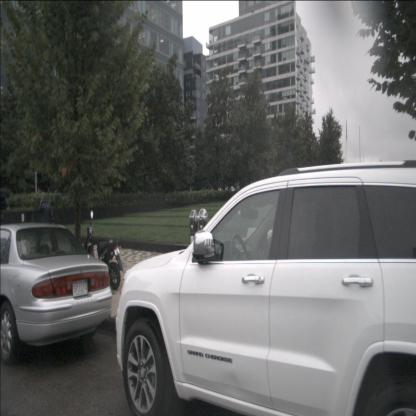human-pedestrian-adult: (37, 192, 55, 256)
vehicle-car: (115, 166, 415, 415), (0, 222, 113, 365)
vehicle-motorcycle: (72, 209, 124, 290)
